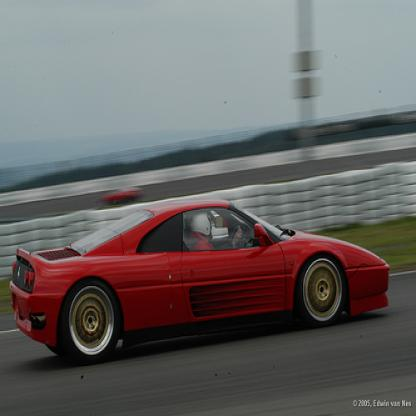car: (10, 196, 390, 364)
